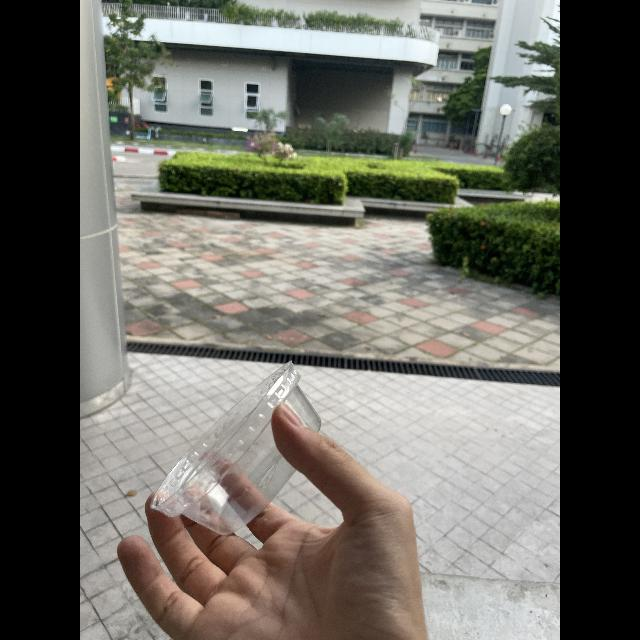plastic_cup_lid: (152, 359, 334, 546)
